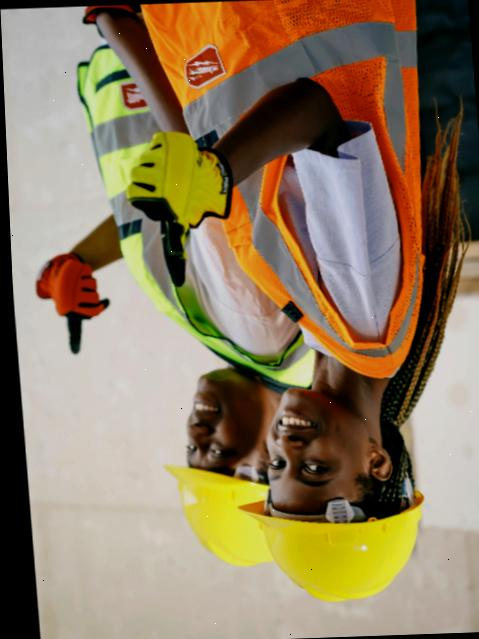helmet: (239, 492, 442, 602), (163, 449, 287, 568)
vest: (208, 0, 447, 367), (71, 40, 301, 385)
